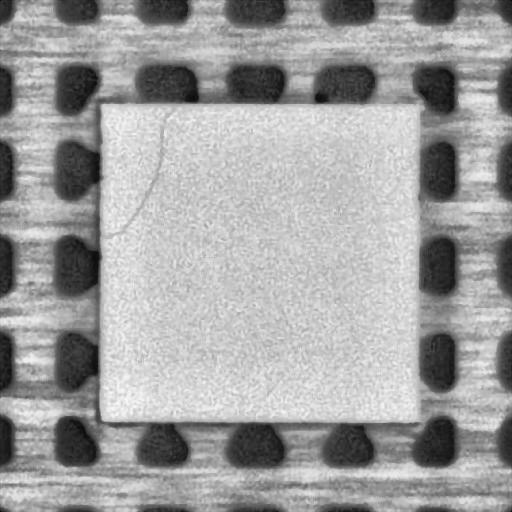DIE_CRACK: (102, 104, 180, 236)
